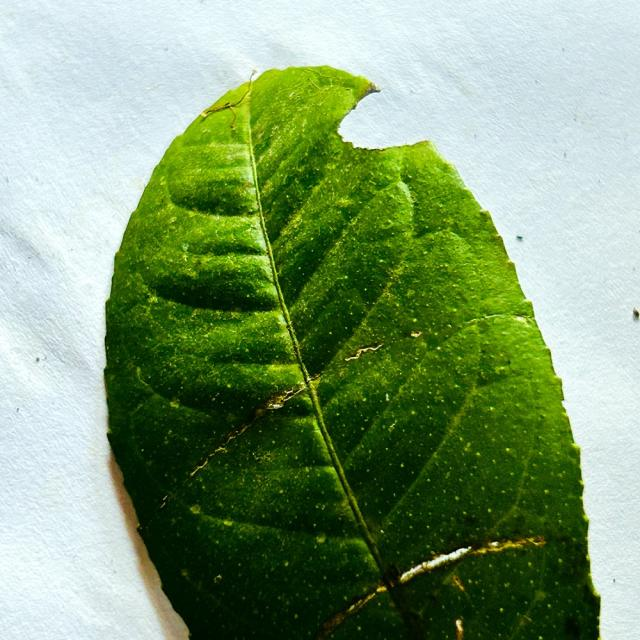Deficiency Leaf: (339, 87, 426, 148), (401, 548, 471, 581)
Lemon: (104, 65, 598, 639)
